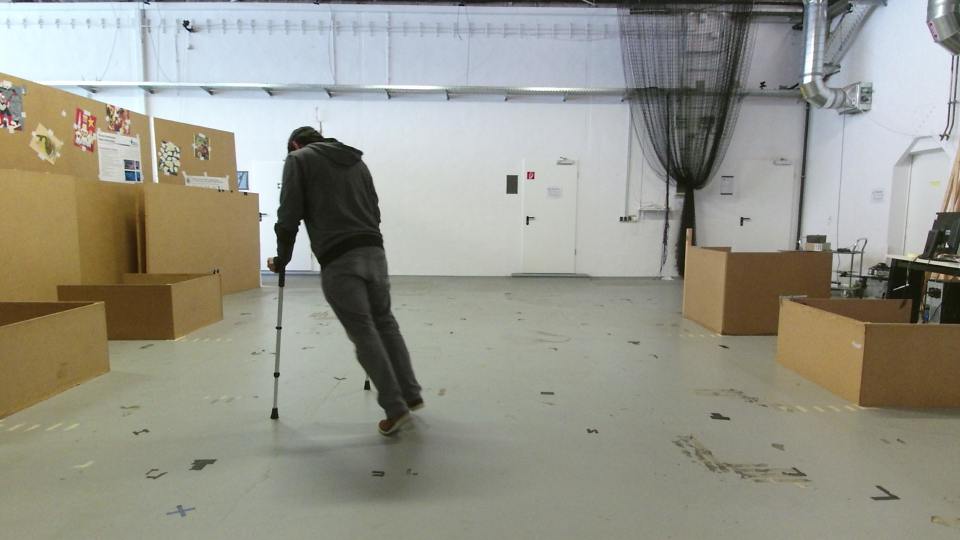crutches: (260, 119, 432, 442)
